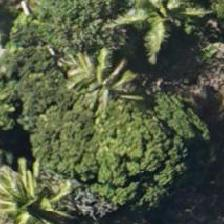coconut_tree: (55, 34, 145, 124), (97, 0, 187, 46)
